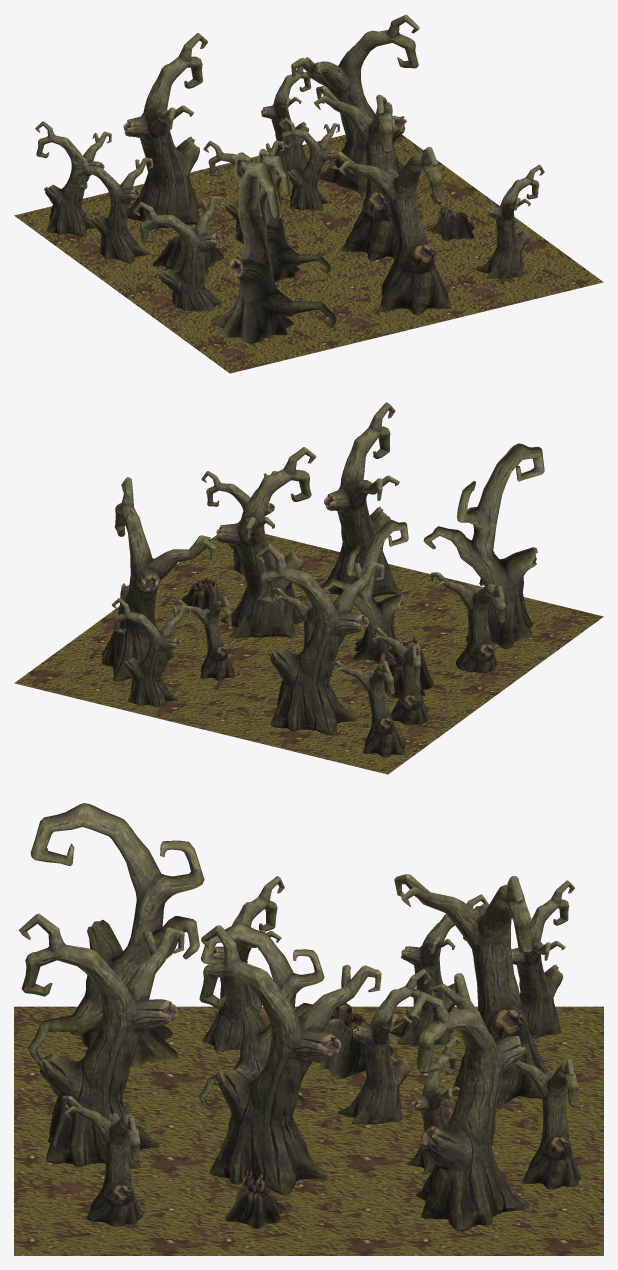
Rendered from Edge_Diorama_10 BIG THICC TREES.fbx.
The picture shows the model from 3 angles, top to bottom: view 1: azimuth 30°, elevation 25°; view 2: azimuth 150°, elevation 25°; view 3: azimuth 270°, elevation 25°; orthographic projection. The views are drawn at different scales.
Visible parts, largest first — view 1: Floor034; view 2: Floor034; view 3: Floor034.
Part boxes in pixels (x1,y1,x2,y2): Floor034: (14,14,603,373); Floor034: (14,402,603,774); Floor034: (14,803,603,1255).
Bounding box in the file's own units: 450 × 222 × 450.
